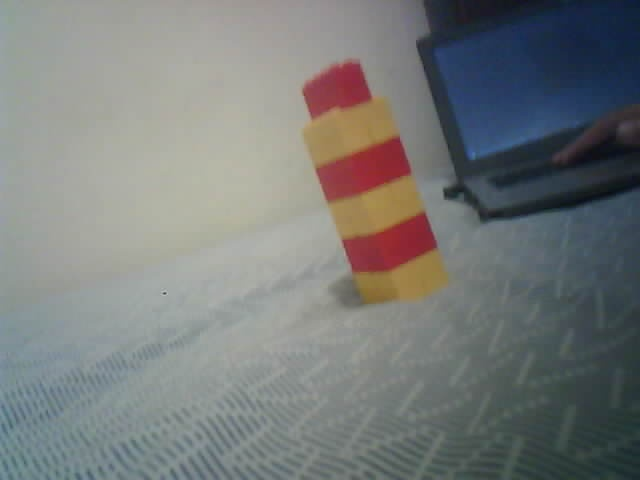lego: (299, 58, 451, 306)
